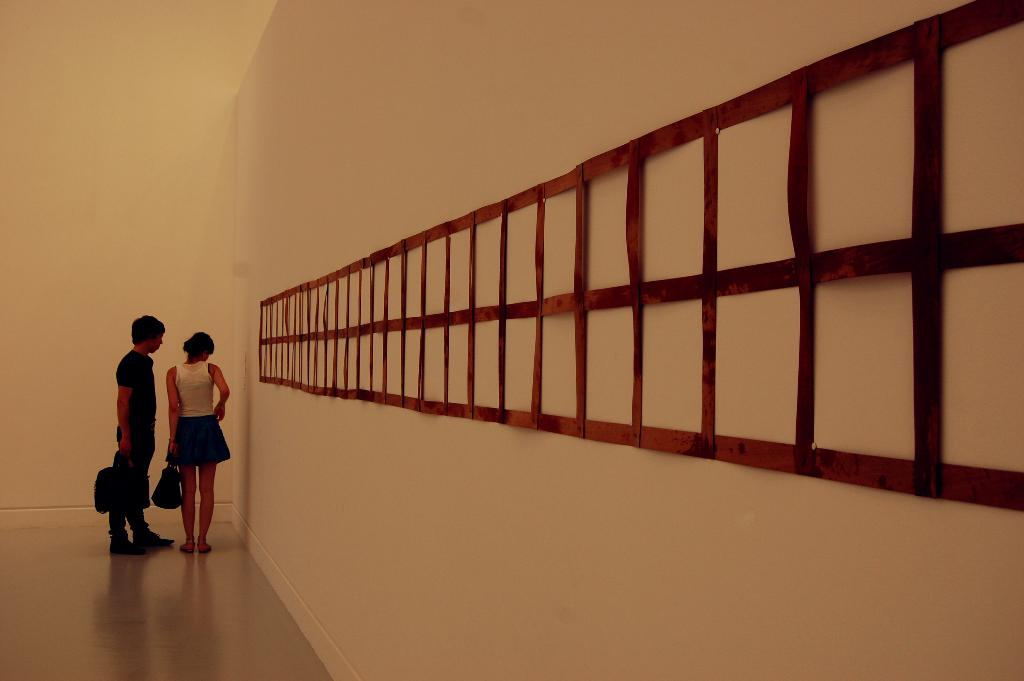Person: (108, 315, 174, 555), (165, 331, 230, 552)
